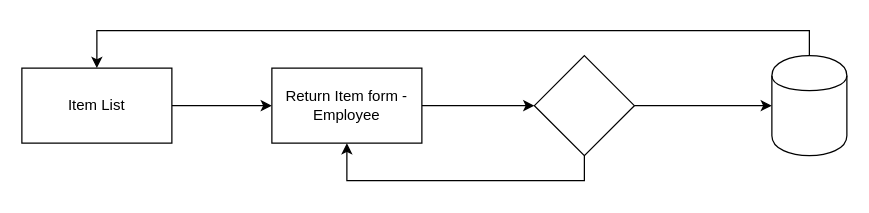
Some shapes in this 869 by 213 pixel diagram are drawn without their labels. Here are the shapes that lost their labels. From the top down, the box of each, then its label:
(533, 54, 634, 156): Validation
(771, 54, 847, 156): Database
